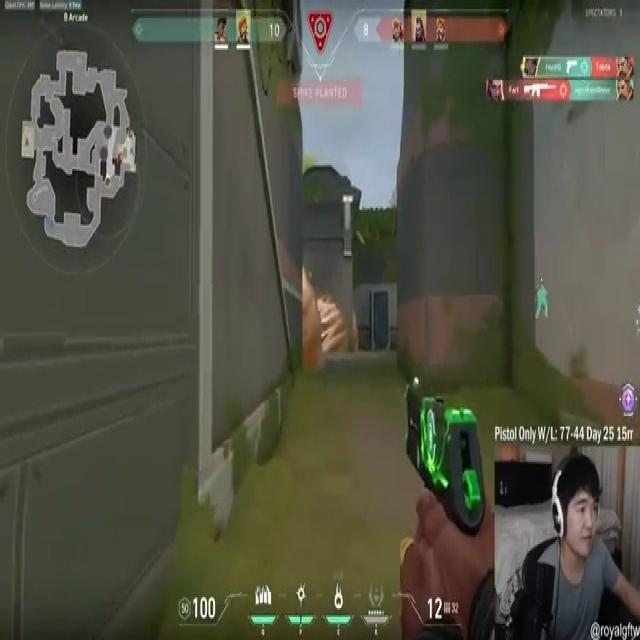ally behind wall: (534, 282, 550, 324)
